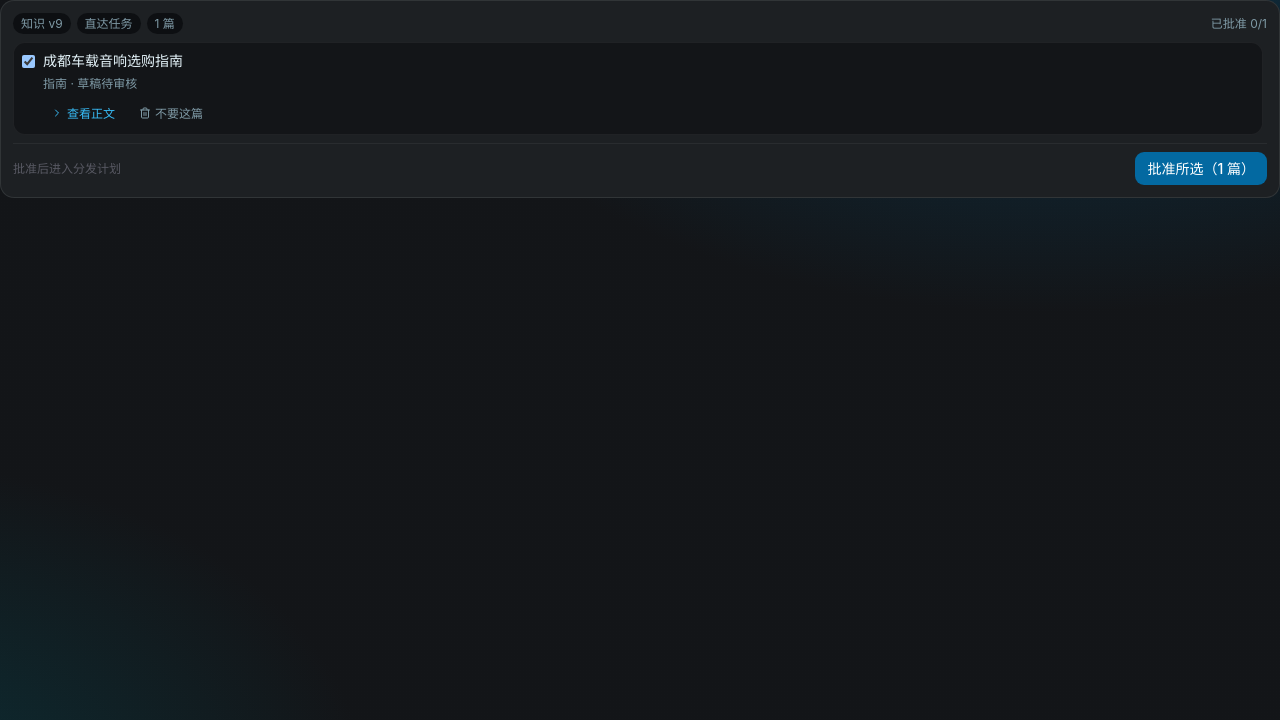
it: ArticleApprovalGateCard › expands and collapses the body without refetching the same revision
This screenshot has width=1280, height=720.
Step 1. Click the button with aria-label "查看正文 成都车载音响选购指南" → (83, 114), box [43, 101, 123, 126]
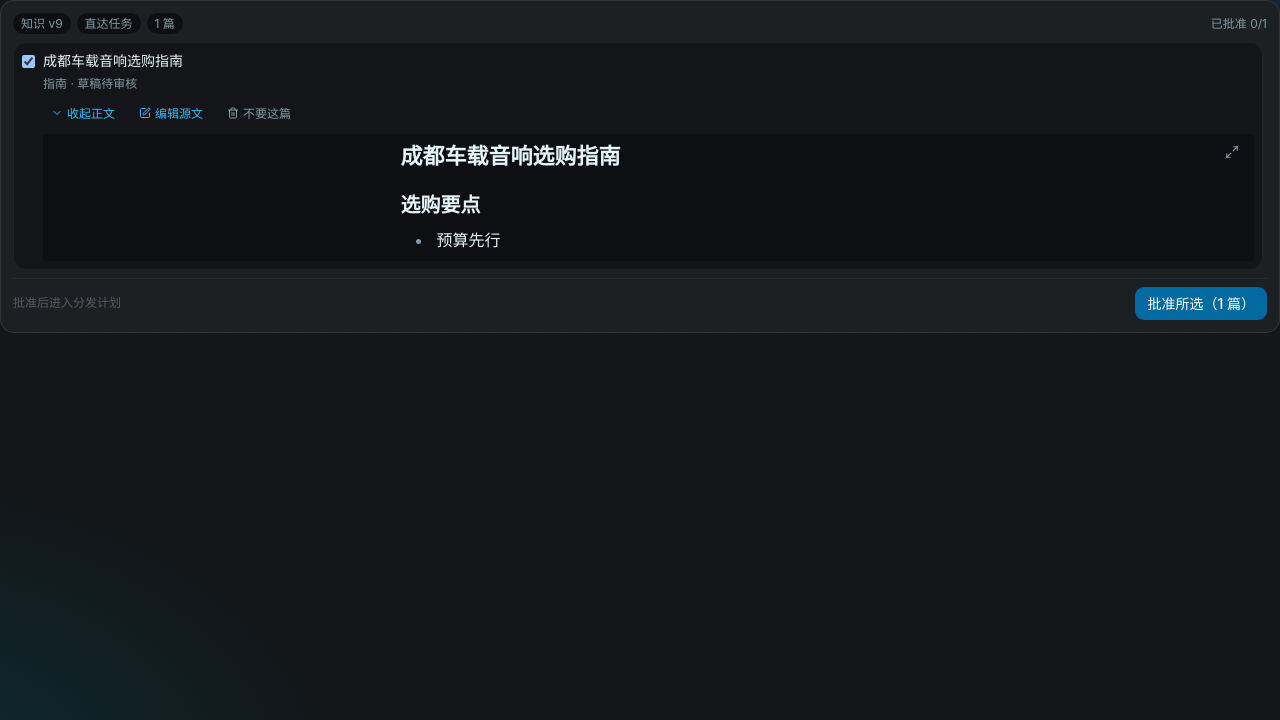
Now the button with aria-label "查看正文 成都车载音响选购指南" is expanded
Now the list item "预算先行" is shown, box [436, 230, 500, 250]
Step 2. Click the button with aria-label "查看正文 成都车载音响选购指南" → (83, 114), box [43, 101, 123, 126]
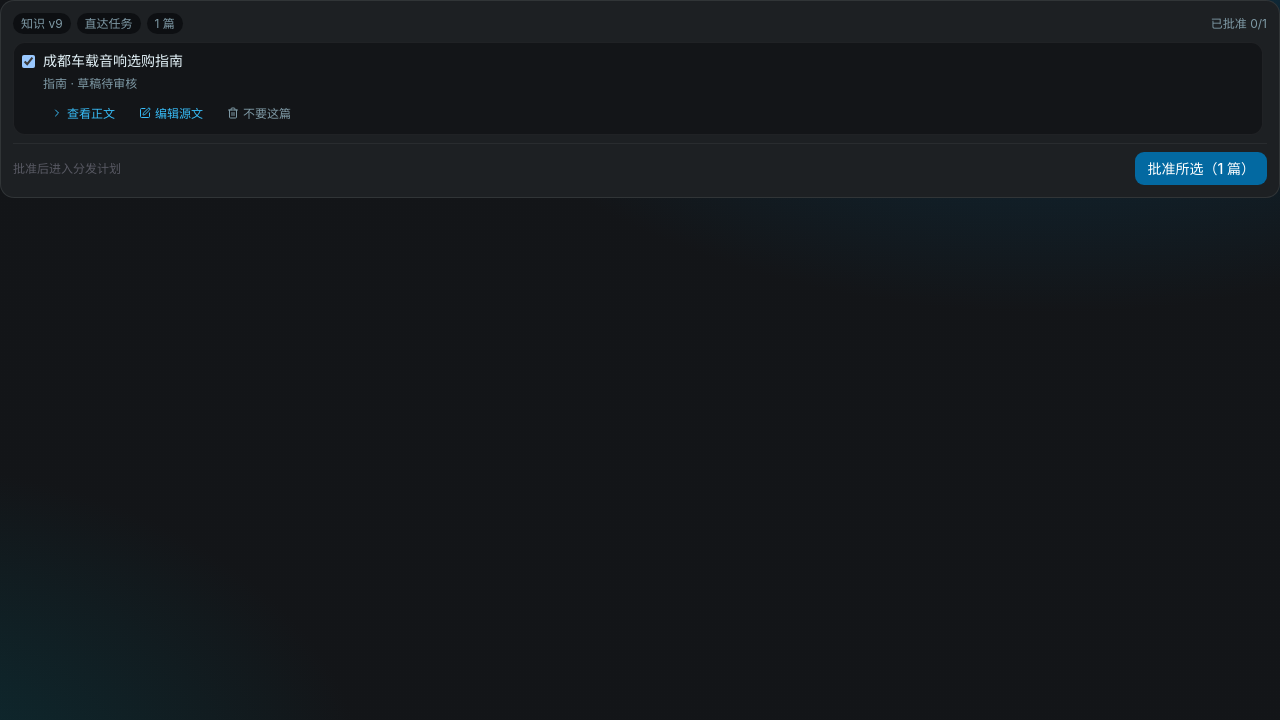
Now the button with aria-label "查看正文 成都车载音响选购指南" is collapsed
Now the list item "预算先行" is gone
Step 3. Click the button with aria-label "查看正文 成都车载音响选购指南" → (83, 114), box [43, 101, 123, 126]
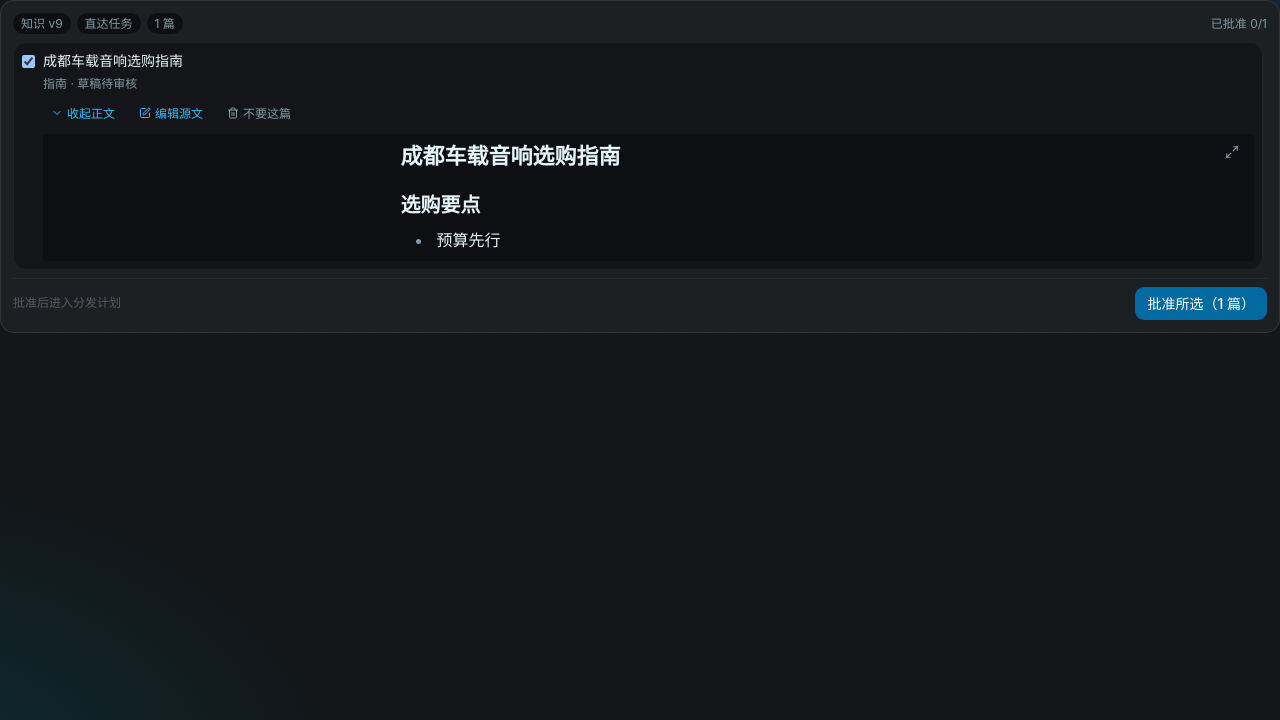
Now the list item "预算先行" is shown, box [436, 230, 500, 250]
